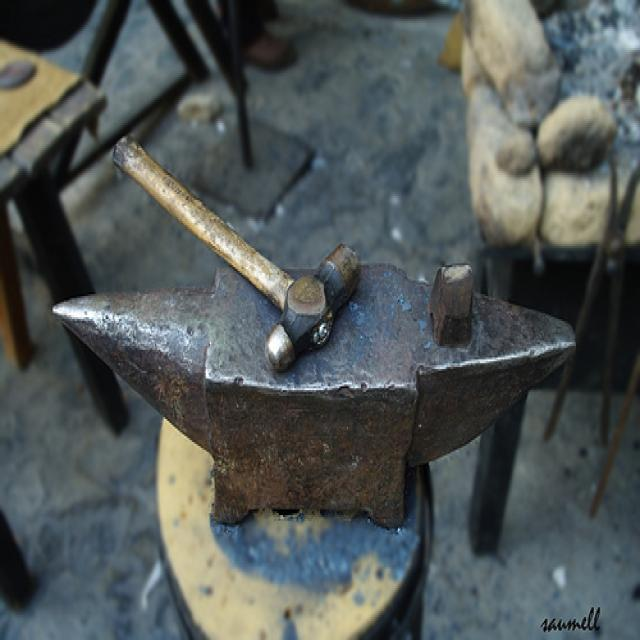hammer: (106, 124, 362, 378)
